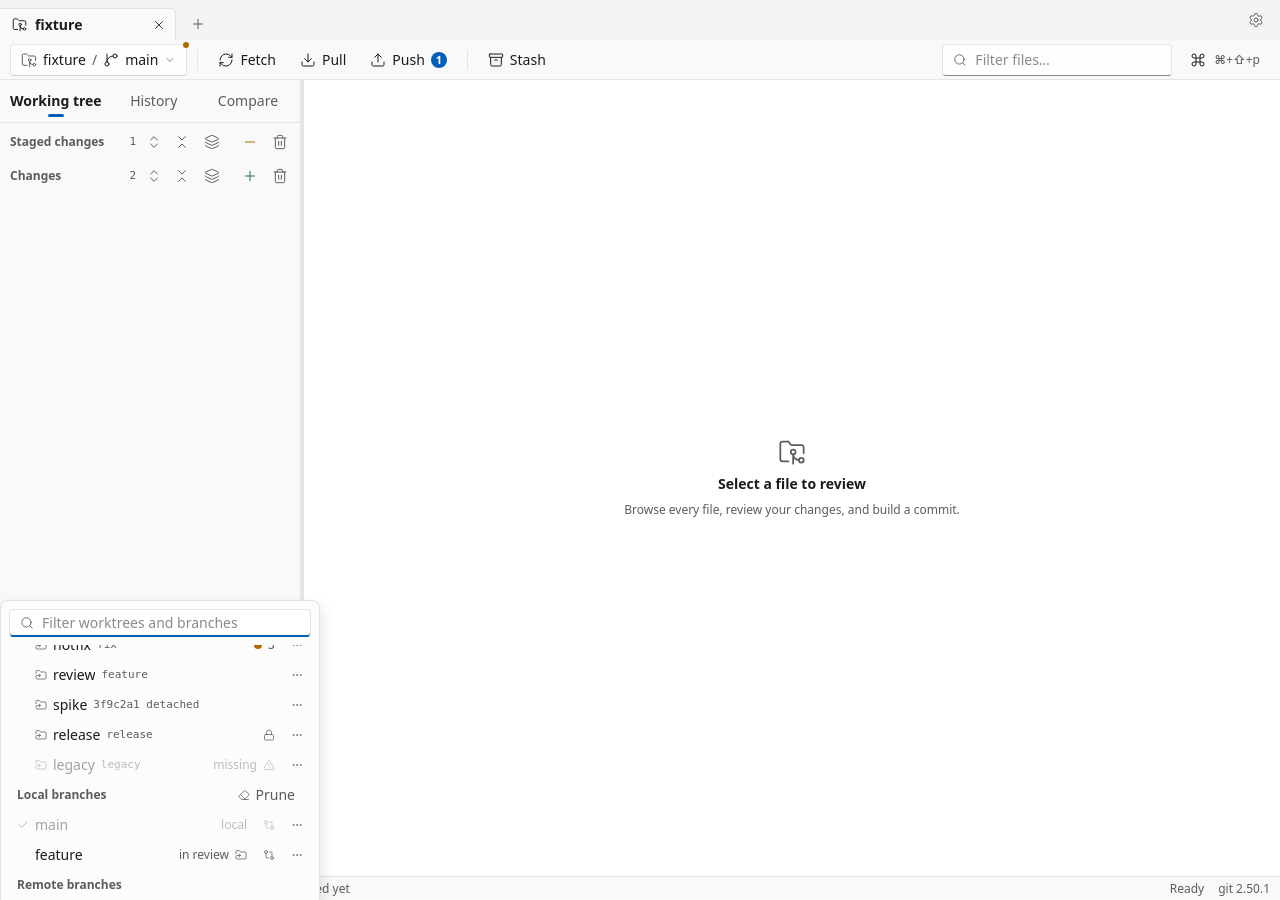
Scenario: worktrees › sends a branch checked out elsewhere to its worktree and keeps it from deletion
(page scrolled)
Click the button named "Actions for feature" at (297, 855), box [283, 845, 311, 865]
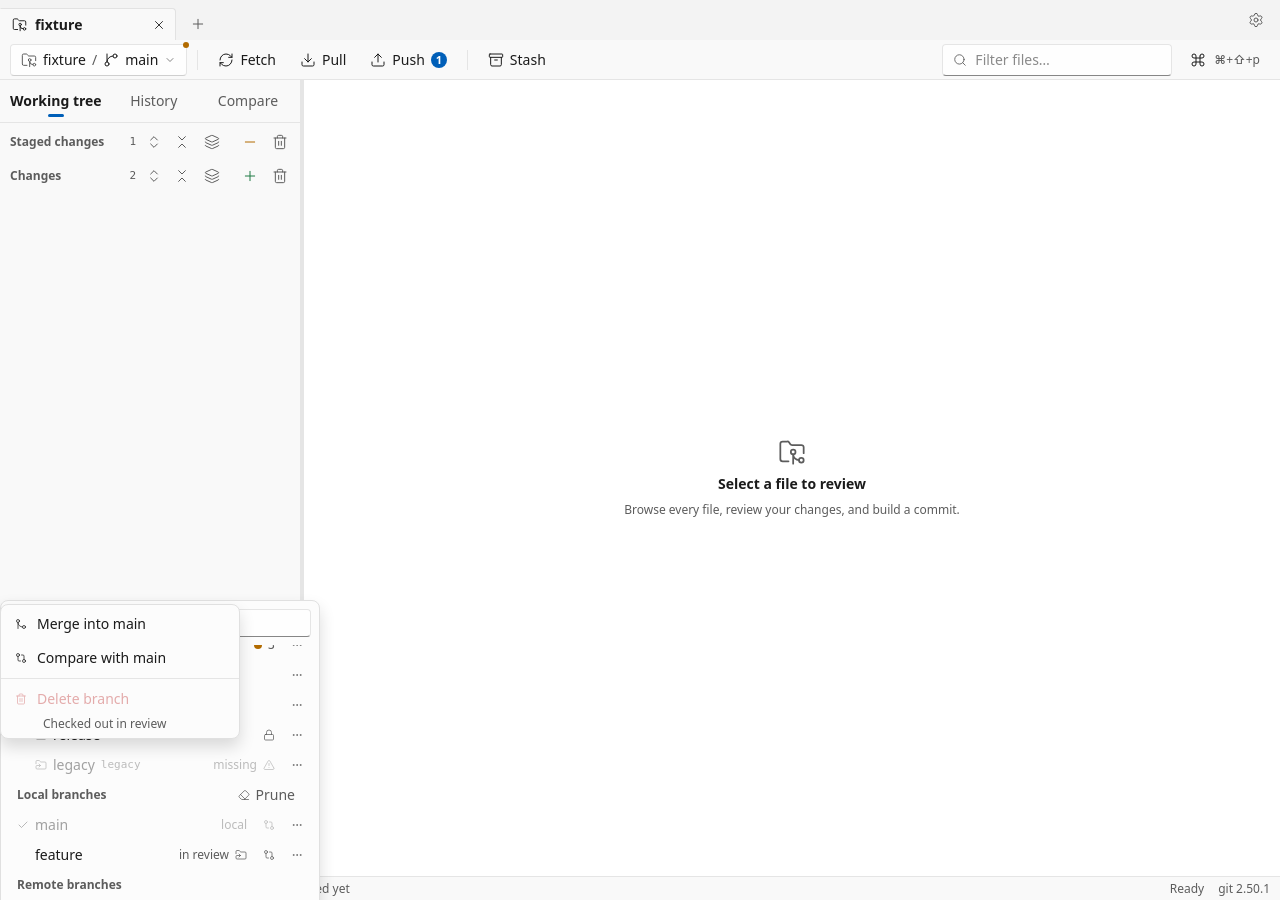
Result: the text "Checked out in review" is shown at [43, 715, 166, 732]
Press Escape
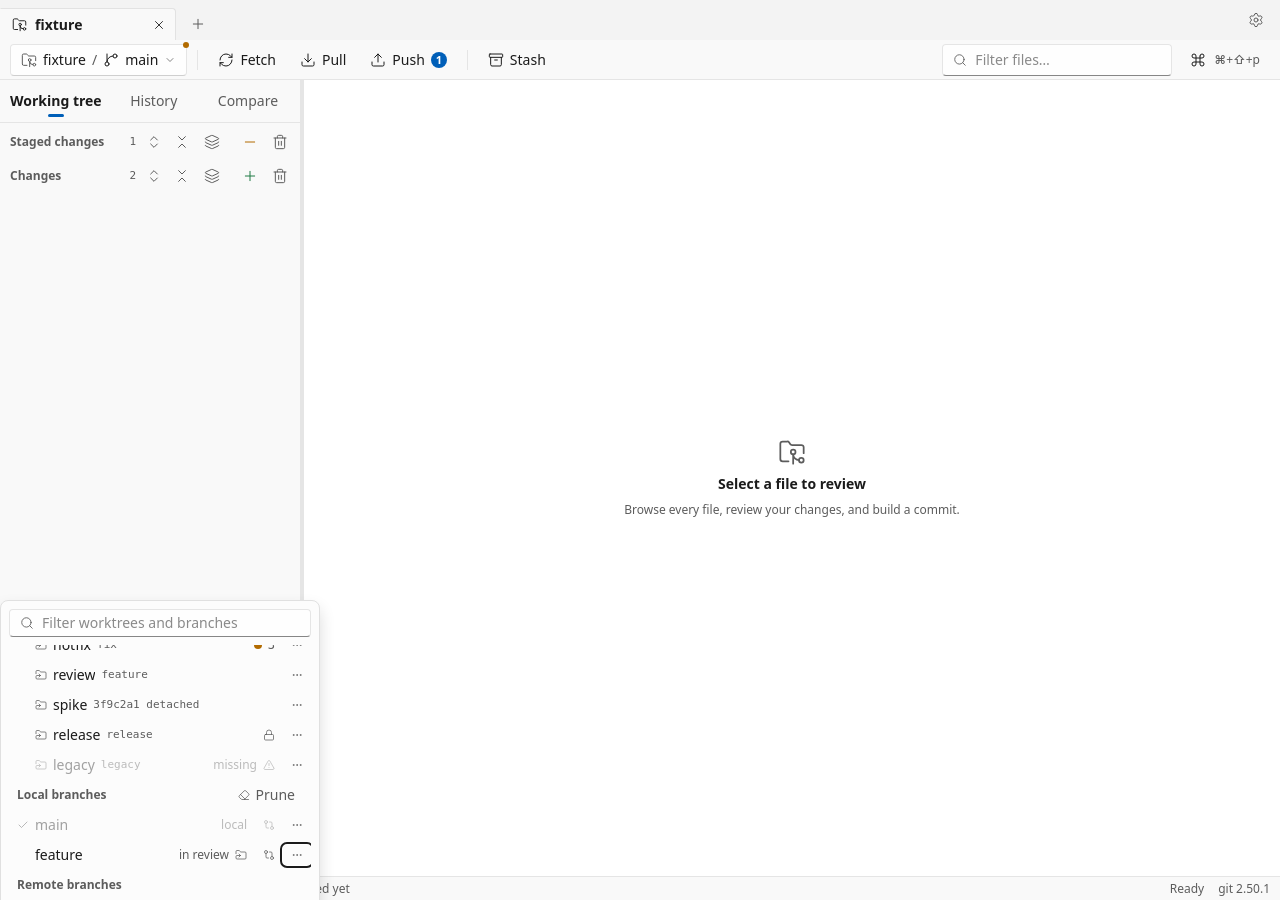
Click the button "feature in review" at (132, 855), box [9, 841, 255, 869]
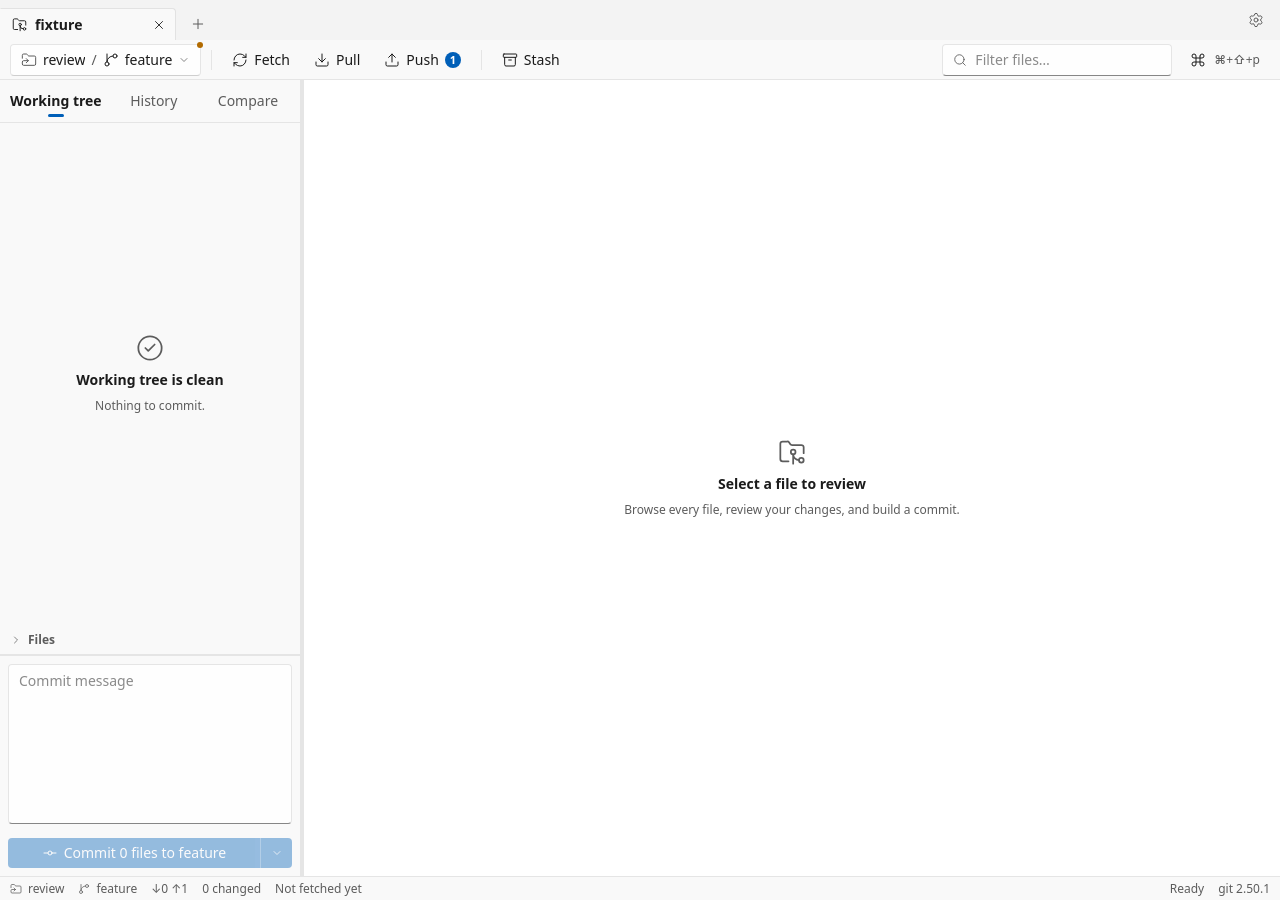
Result: the heading labelled "branches" is gone
